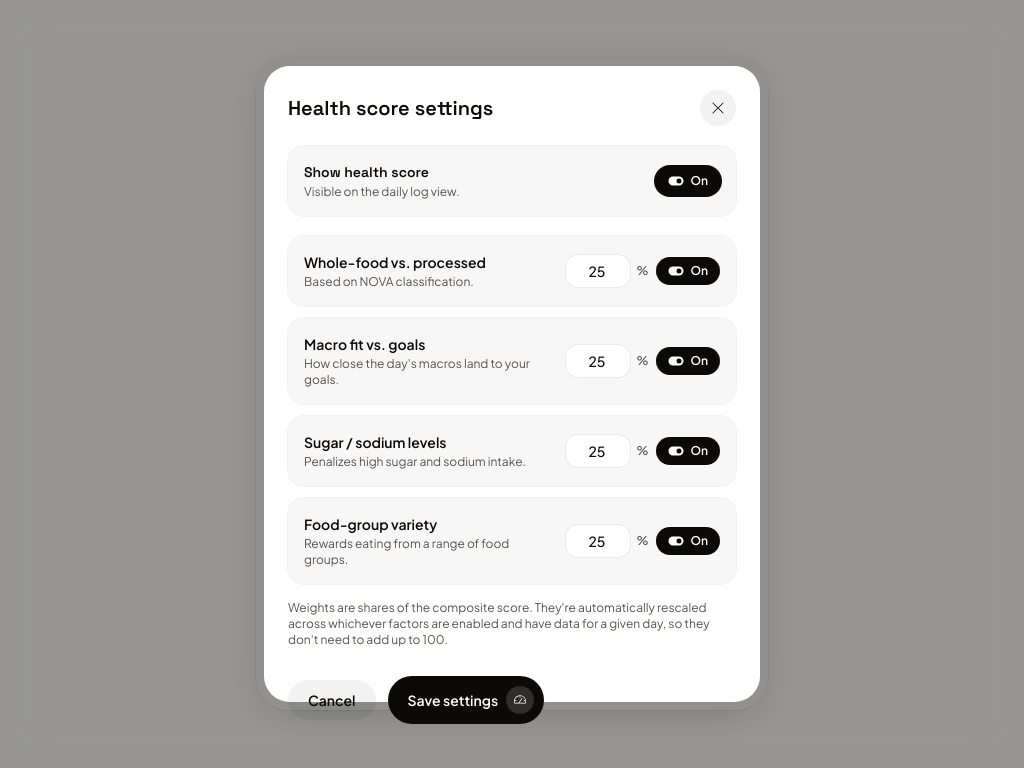
Test: HealthScoreSettingsModal — independent factor toggles › disables just one factor's weight input via its own enable toggle, leaving others enabled
The image size is (1024, 768).
Click the button with aria-label "Disable Whole-food vs. processed".
click(688, 271)  # box left=656, top=257, right=720, bottom=285
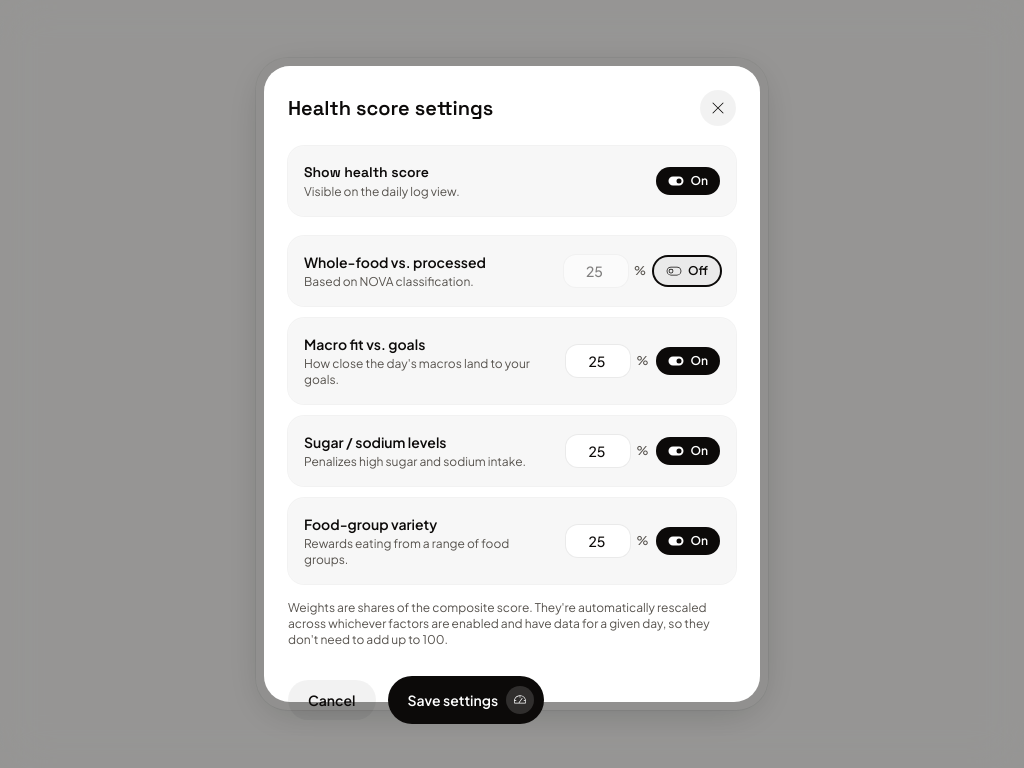
Expected: the button with aria-label "Enable Whole-food vs. processed" is shown, left=654, top=257, right=720, bottom=285
